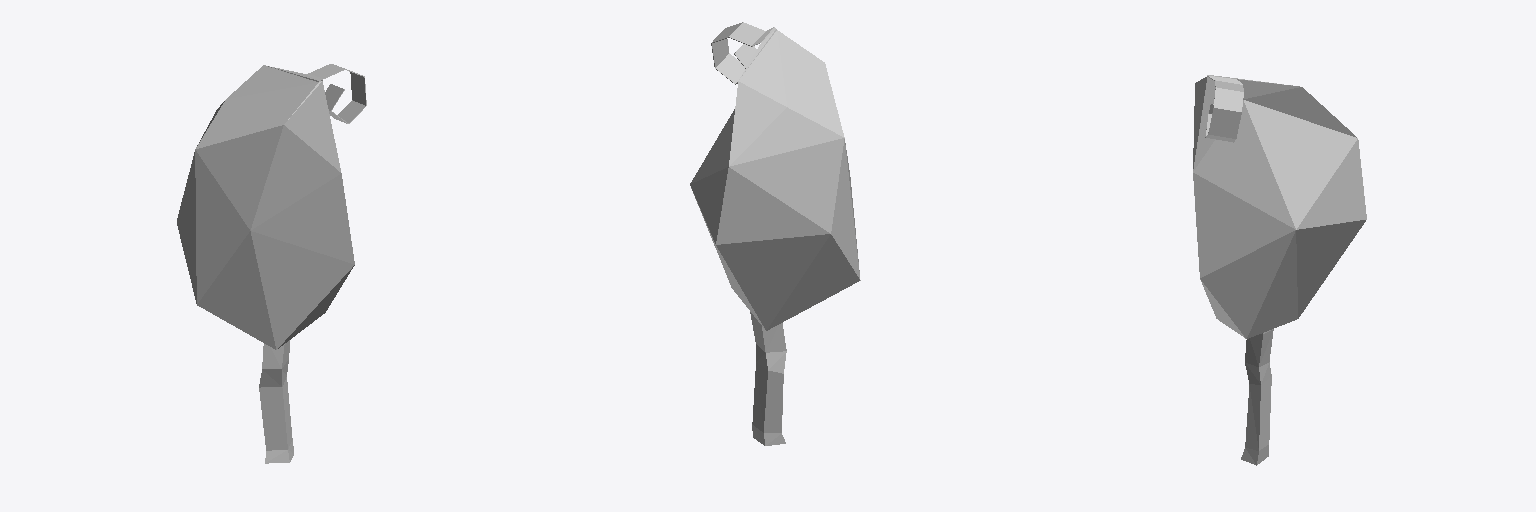
Rendered from tree_schmalzlocke_yellow2.obj.
3 views of the same model, side by side, from view 1: azimuth 30°, elevation 25°; view 2: azimuth 150°, elevation 25°; view 3: azimuth 270°, elevation 25° (orthographic).
Visible parts, largest first — view 1: SchmalzlockeUV; view 2: SchmalzlockeUV; view 3: SchmalzlockeUV.
Boxes of the visible parts, box(x1,y1,x2,y2) form: SchmalzlockeUV: box(177, 64, 366, 463); SchmalzlockeUV: box(690, 22, 860, 445); SchmalzlockeUV: box(1193, 75, 1366, 465).
Size of the model in its own units: 75.09 by 186 by 74.63.